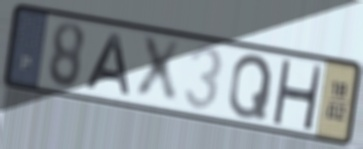3: (184, 44, 228, 115)
8: (47, 20, 87, 91)
A: (83, 32, 134, 98)
H: (270, 56, 325, 133)
Q: (225, 52, 275, 121)
X: (134, 34, 184, 107)
